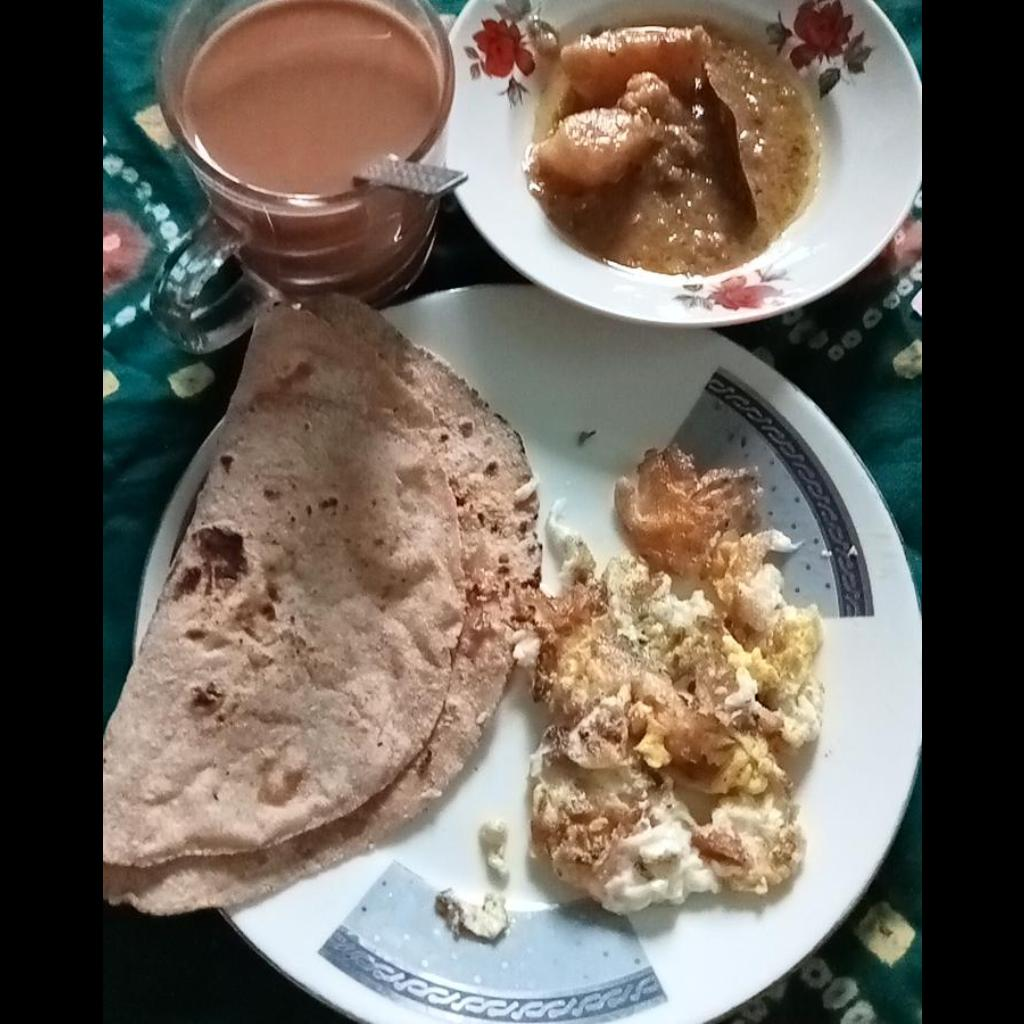cha: (191, 4, 434, 190)
chicken: (529, 23, 798, 265)
egg-poached: (518, 444, 826, 915)
ruti: (102, 300, 539, 913)
